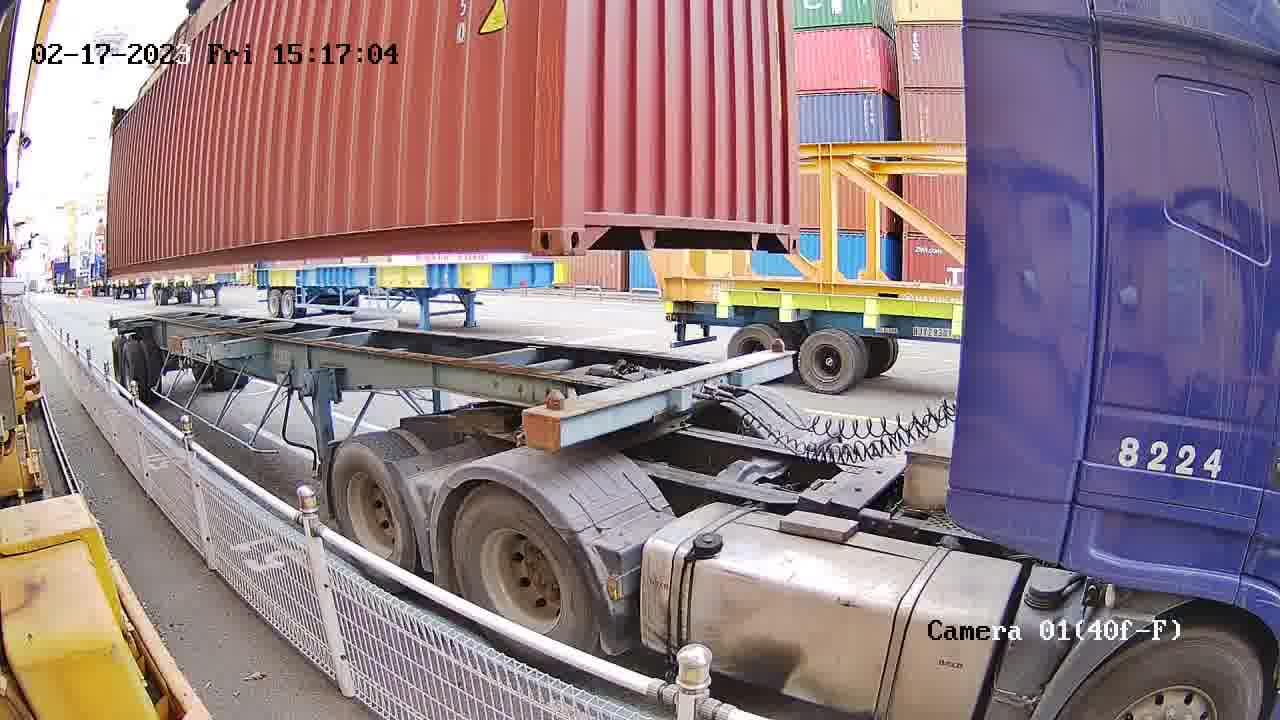Chassis: (523, 349, 794, 445)
Cone: (531, 385, 571, 448), (768, 334, 792, 354)
Hole_L: (562, 197, 621, 253)
Hole_R: (496, 197, 561, 254), (757, 209, 801, 256)
Tire: (453, 488, 597, 648), (331, 447, 414, 567)
